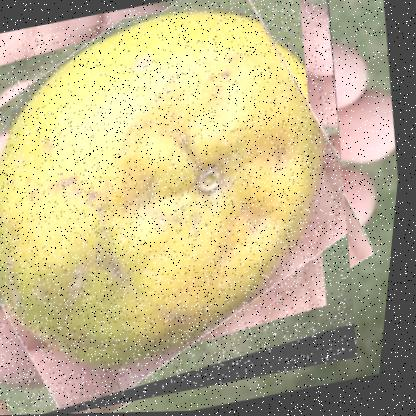orange_rotten: (0, 0, 394, 415)
